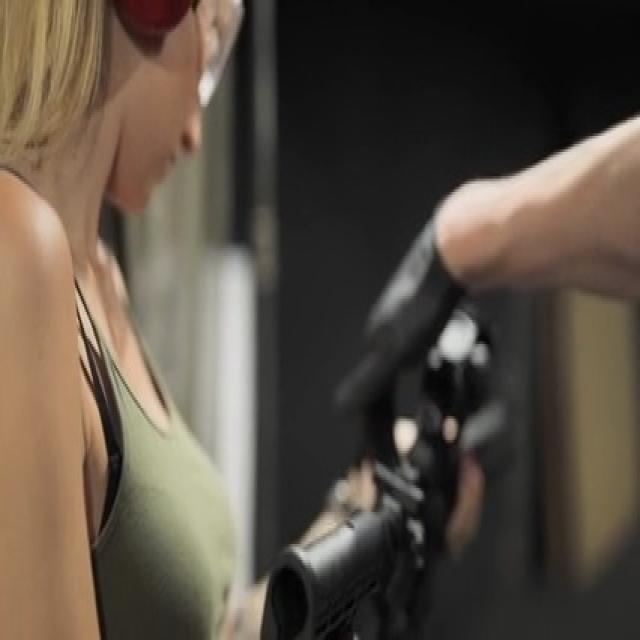Gun_Holder: (233, 298, 640, 640)
Person: (1, 0, 293, 640)
